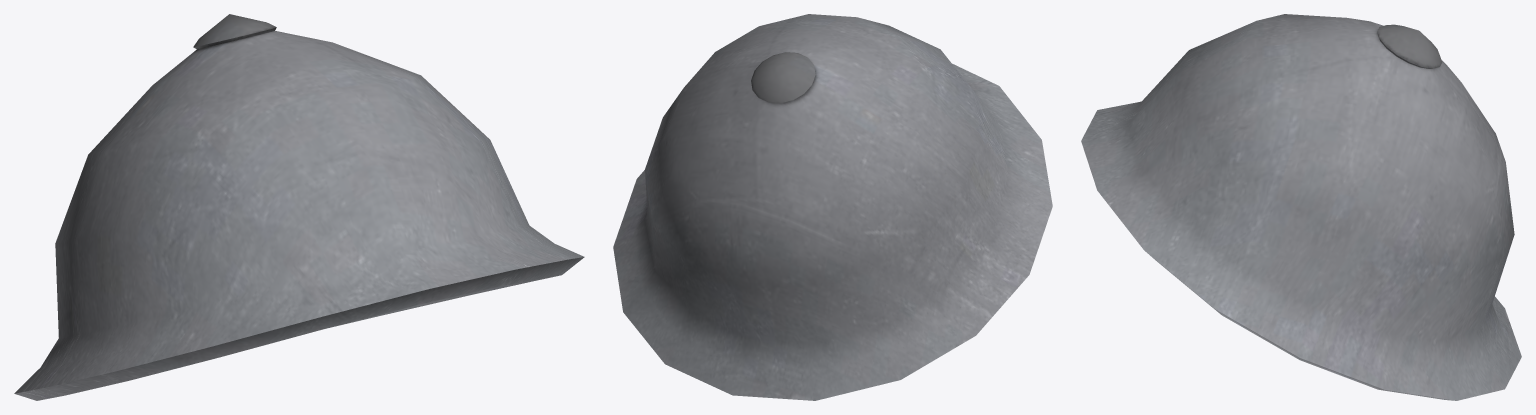
Rendered from Players_hat_5.FBX.
The picture shows the model from 3 angles, left to right: view 1: azimuth 30°, elevation 25°; view 2: azimuth 150°, elevation 25°; view 3: azimuth 270°, elevation 25°; orthographic projection. The views are drawn at different scales.
Visible parts, largest first — view 1: Players_hat_4; view 2: Players_hat_4; view 3: Players_hat_4.
Boxes of the visible parts, x1=… form: Players_hat_4: x1=14, y1=14, x2=584, y2=400; Players_hat_4: x1=613, y1=14, x2=1052, y2=400; Players_hat_4: x1=1081, y1=14, x2=1521, y2=400.
Bounding box in the file's own units: 16.68 × 12.1 × 14.68.
